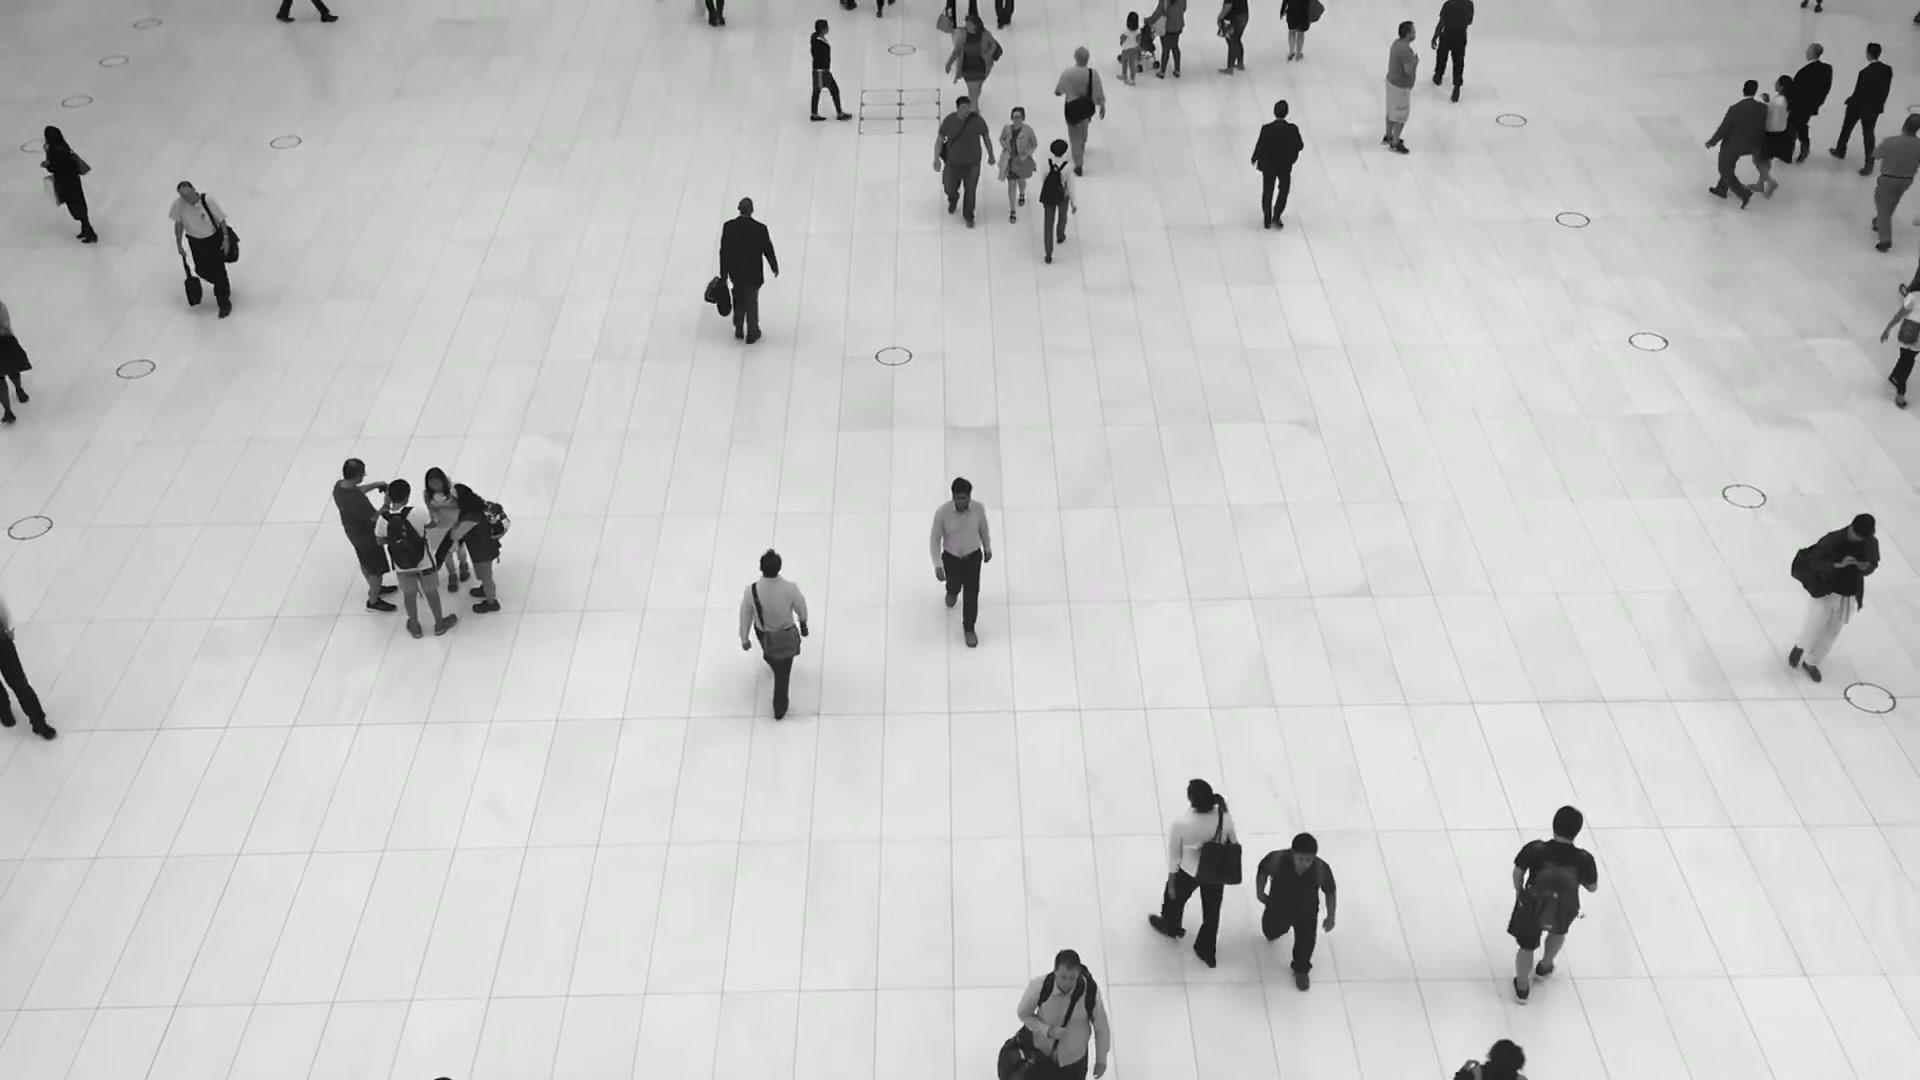person: (1507, 804, 1598, 1003), (1787, 513, 1881, 684), (1160, 775, 1237, 961), (1253, 833, 1337, 995), (376, 477, 460, 635), (736, 548, 810, 724), (1015, 948, 1112, 1080), (926, 475, 994, 649), (334, 457, 400, 611), (718, 195, 780, 345), (167, 180, 233, 320), (932, 94, 995, 228), (1830, 41, 1894, 176), (1704, 78, 1768, 209), (1248, 98, 1305, 231), (1870, 112, 1920, 252), (41, 124, 99, 244), (449, 482, 501, 614), (1053, 46, 1106, 175), (1745, 73, 1793, 198), (422, 467, 469, 592), (1380, 19, 1420, 154), (1037, 138, 1078, 263), (1792, 42, 1833, 163), (945, 14, 996, 108), (1430, 0, 1475, 102), (808, 18, 853, 122), (998, 106, 1038, 223), (1115, 10, 1141, 86)
